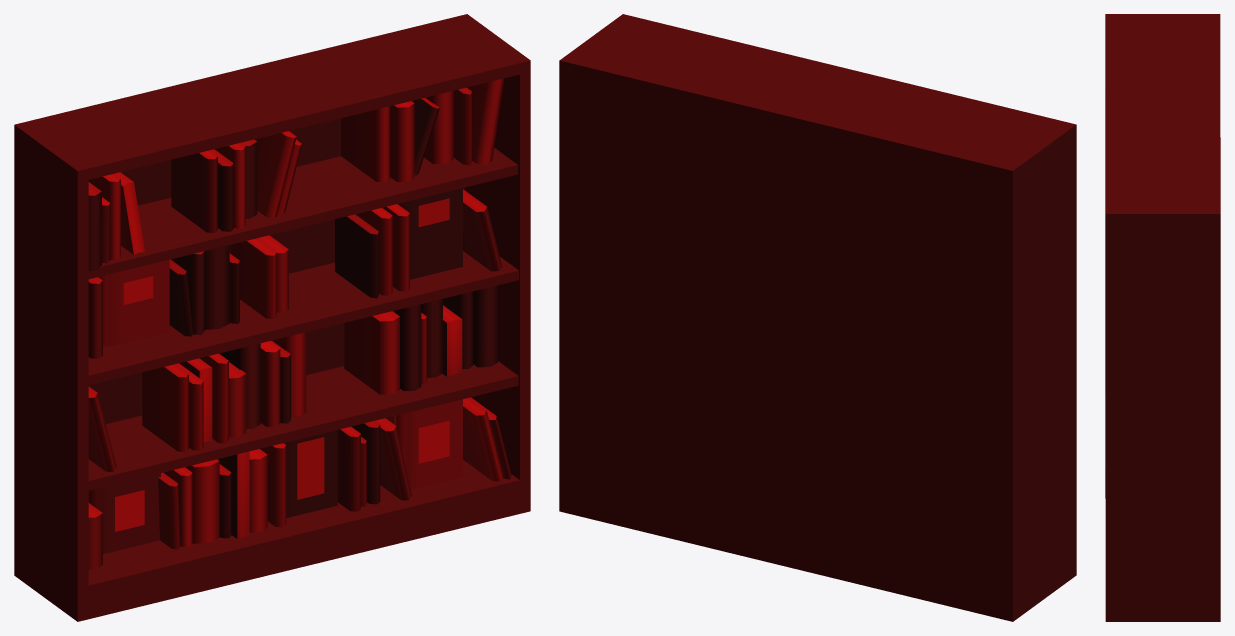
The model's file is BookShelf001.glb.
The picture shows the model from 3 angles, left to right: view 1: azimuth 30°, elevation 25°; view 2: azimuth 150°, elevation 25°; view 3: azimuth 270°, elevation 25°; orthographic projection. The views are drawn at different scales.
Parts seen in each view (by area): view 1: BookShelf001; view 2: BookShelf001; view 3: BookShelf001.
Part boxes in pixels (x1=…): BookShelf001: x1=14, y1=14, x2=530, y2=621; BookShelf001: x1=559, y1=14, x2=1076, y2=621; BookShelf001: x1=1105, y1=14, x2=1220, y2=621.
Size of the model in its own units: 8.91 by 8.47 by 2.17.
